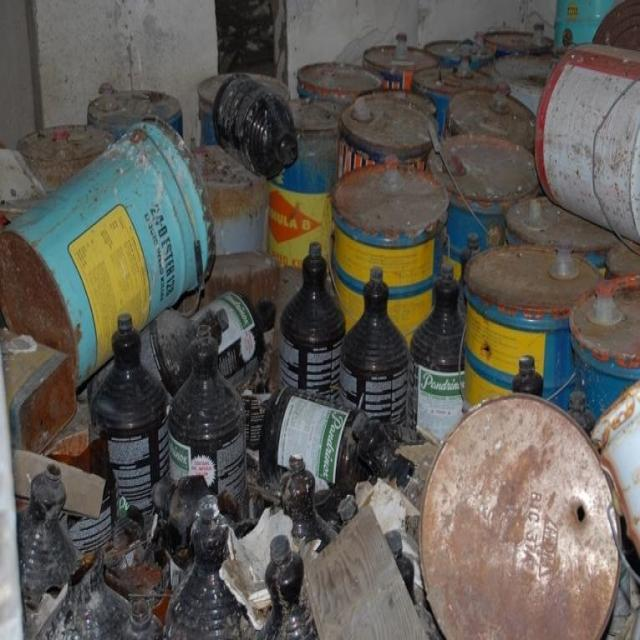Plastics: (31, 296, 412, 640)
can: (284, 2, 640, 361), (0, 57, 276, 336), (424, 386, 640, 640)
